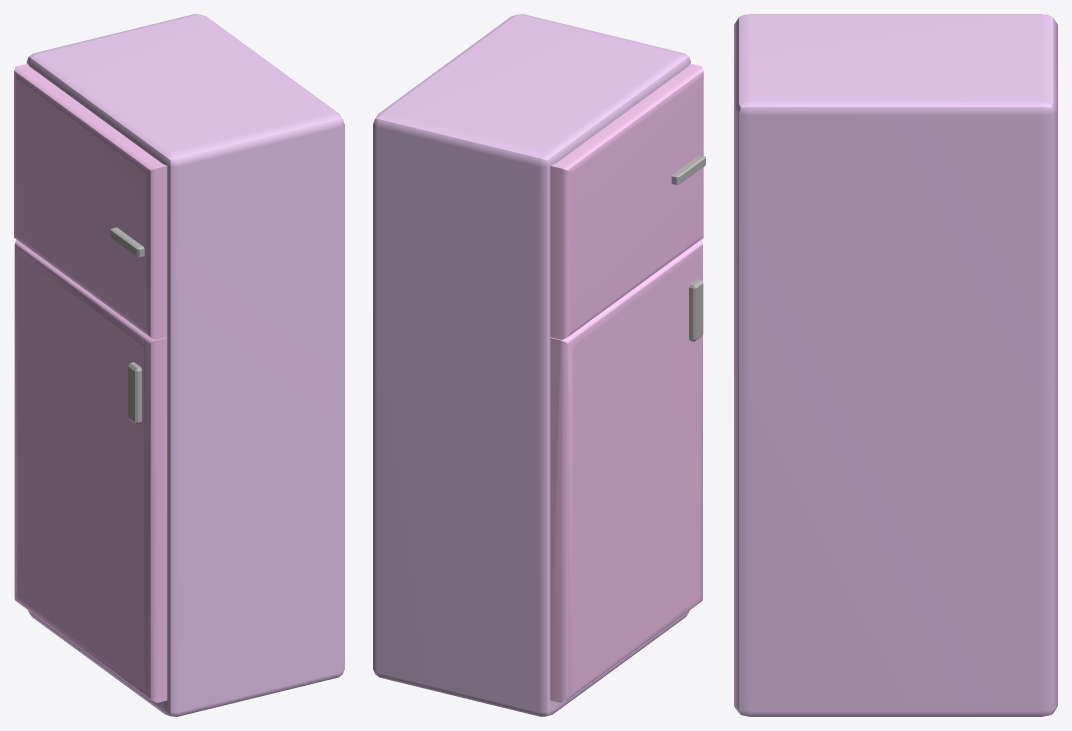
The model's file is FridgePink.glb.
3 renders of one model, left to right at view 1: azimuth 30°, elevation 25°; view 2: azimuth 150°, elevation 25°; view 3: azimuth 270°, elevation 25°, orthographic. The views are drawn at different scales.
Parts seen in each view (by area): view 1: Fridge, DoorLower, DoorUpper, HandleLower; view 2: Fridge, DoorLower, DoorUpper, HandleLower; view 3: Fridge.
Boxes of the visible parts, x1,y1,x2,y2 form: Fridge: [26, 14, 344, 716]; DoorLower: [14, 239, 167, 702]; DoorUpper: [14, 63, 167, 339]; HandleLower: [128, 362, 141, 424]; Fridge: [373, 14, 690, 716]; DoorLower: [550, 239, 702, 702]; DoorUpper: [550, 63, 703, 339]; HandleLower: [689, 279, 703, 341]; Fridge: [734, 14, 1057, 716].
Bounding box in the file's own units: 0.7846 × 2.1 × 1.
